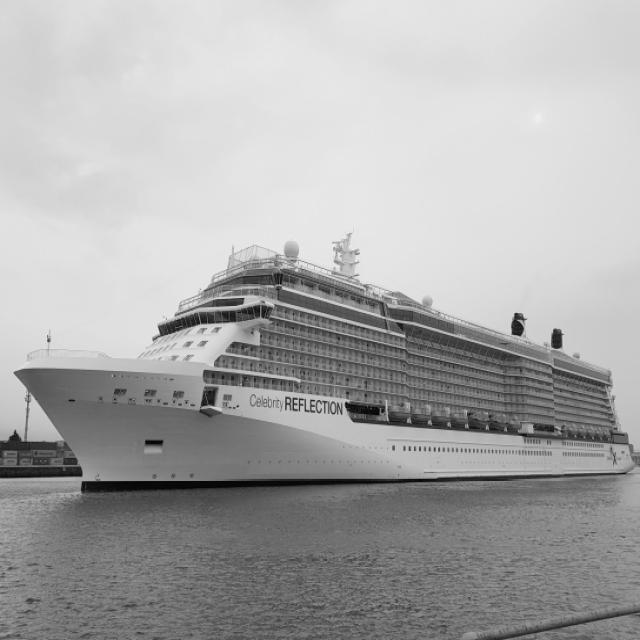cruises: (10, 219, 638, 498)
